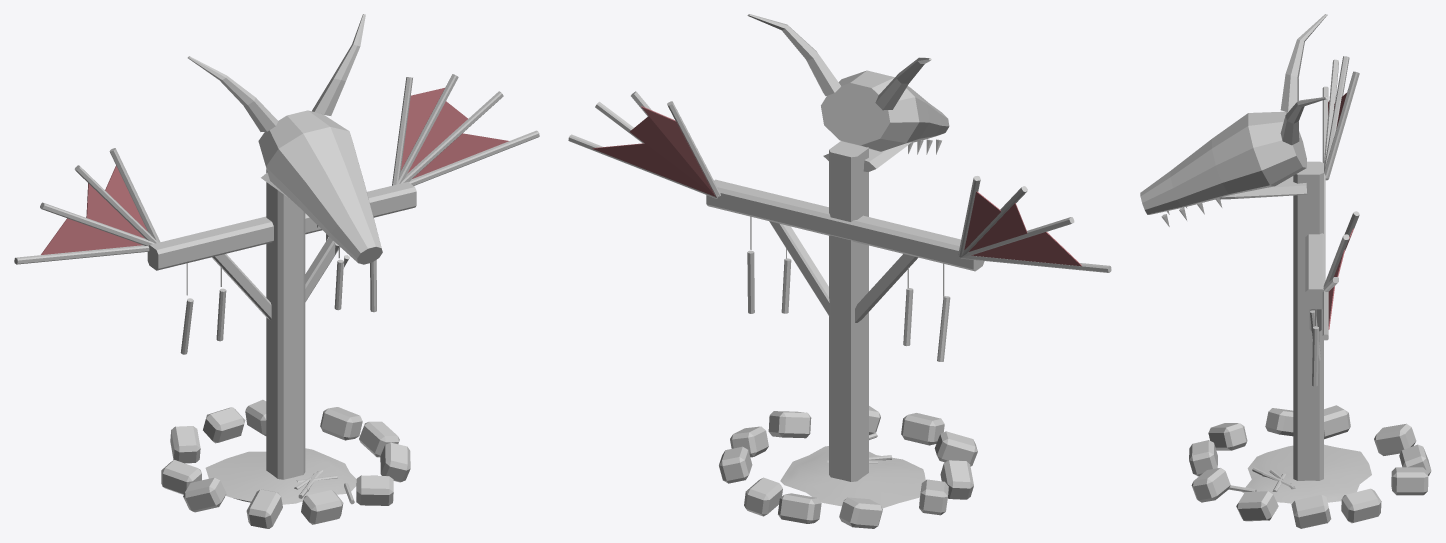
The model's file is dracolich_idol.glb.
3 renders of one model, left to right at view 1: azimuth 30°, elevation 25°; view 2: azimuth 150°, elevation 25°; view 3: azimuth 270°, elevation 25°, orthographic. The views are drawn at different scales.
Visible parts, largest first — view 1: dracolich_idol; view 2: dracolich_idol; view 3: dracolich_idol.
Part boxes in pixels (bbox=[...]): dracolich_idol: bbox=[14, 14, 539, 528]; dracolich_idol: bbox=[568, 14, 1111, 528]; dracolich_idol: bbox=[1140, 14, 1431, 528].
Size of the model in its own units: 6.87 by 5.5 by 3.4.
